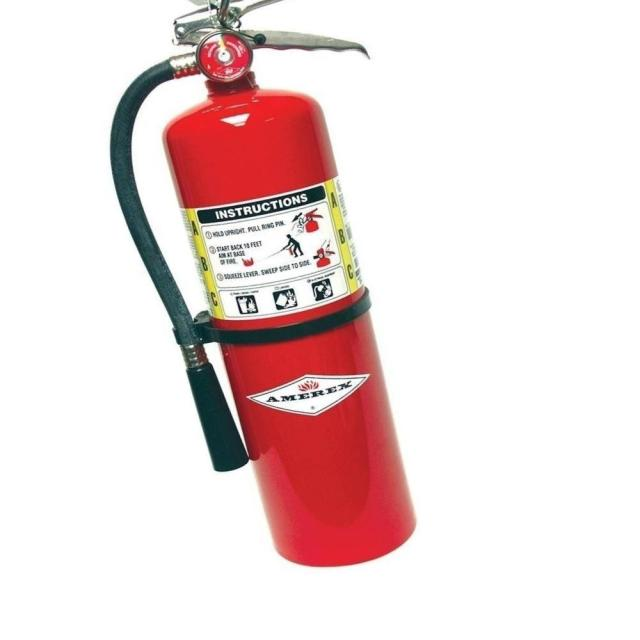fire_extinguisher: (103, 0, 423, 572)
